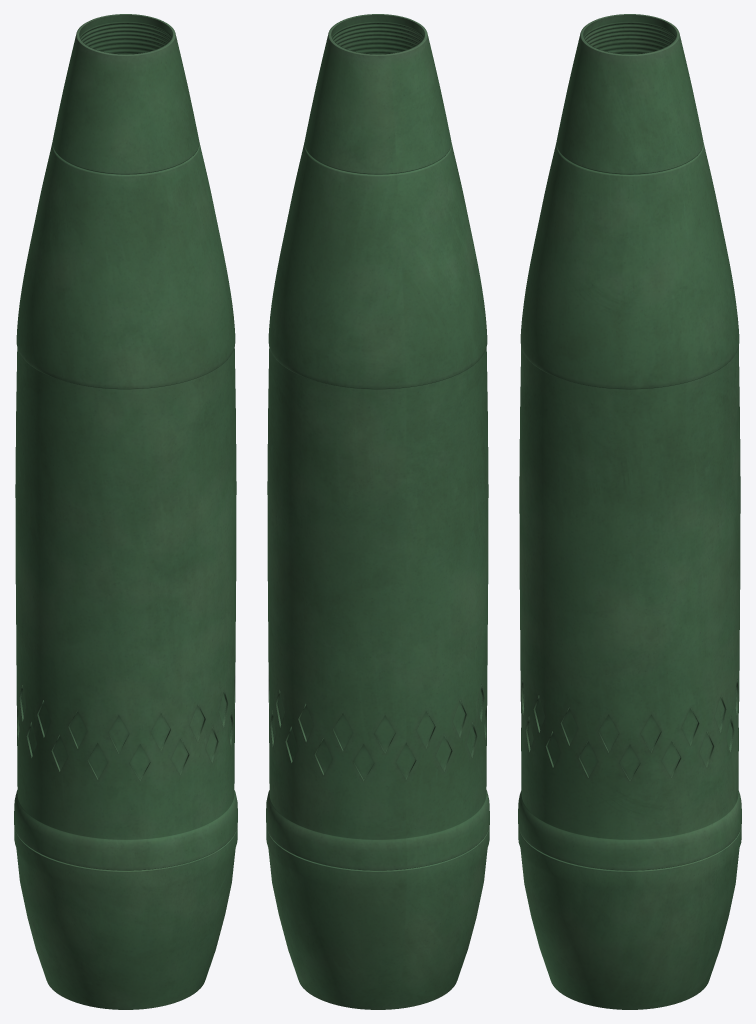
Rendered from projectile-2.gltf.
3 views of the same model, side by side, from view 1: azimuth 30°, elevation 25°; view 2: azimuth 150°, elevation 25°; view 3: azimuth 270°, elevation 25° (orthographic).
Visible parts, largest first — view 1: Mesh2001; view 2: Mesh2001; view 3: Mesh2001.
Boxes of the visible parts, box(x1,y1,x2,y2) form: Mesh2001: box(14, 14, 237, 1009); Mesh2001: box(266, 14, 489, 1009); Mesh2001: box(518, 14, 741, 1009).
Bounding box in the file's own units: 105 × 487 × 105.
1 material, 1 textured.
